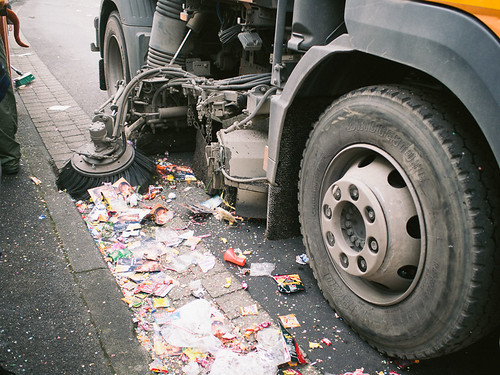trash: (71, 110, 303, 375)
